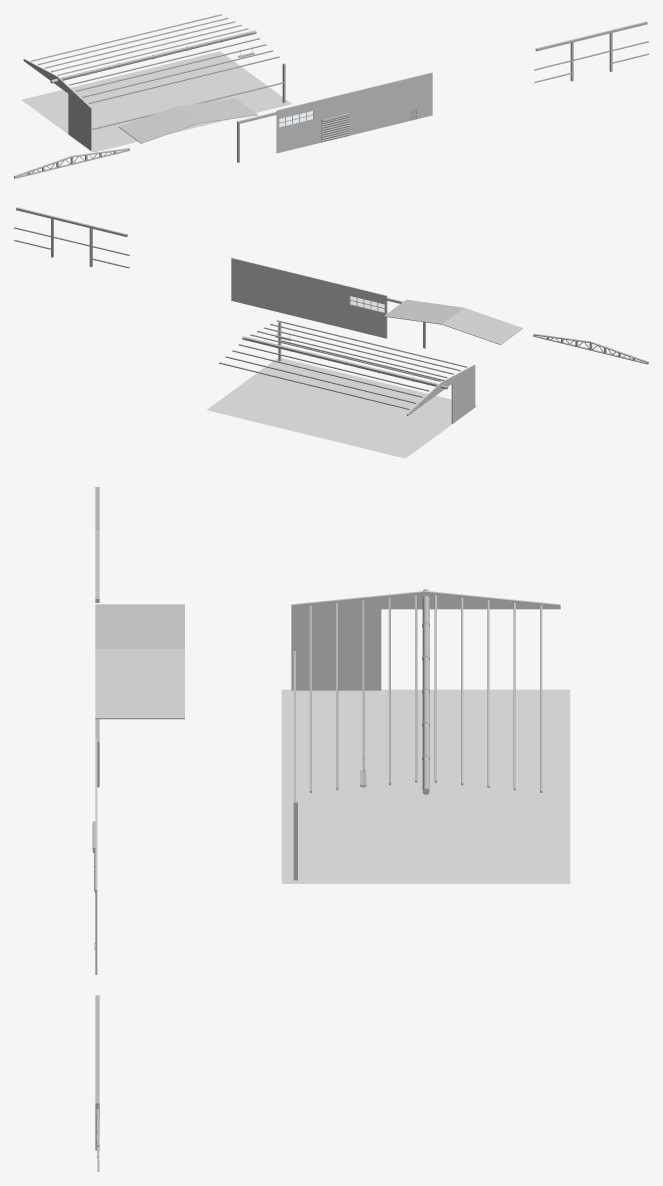
The model's file is FireBase.fbx.
The picture shows the model from 3 angles, top to bottom: view 1: azimuth 30°, elevation 25°; view 2: azimuth 150°, elevation 25°; view 3: azimuth 270°, elevation 25°; orthographic projection. The views are drawn at different scales.
Parts seen in each view (by area): view 1: GroundForNow, roofSupport, Roof, SideWallDoor, SideWall, GarageWall, SideWallNormal, BackColone, FrontBWall, Pipe, RoofMainSupport, RoofClosePart (+2 smaller); view 2: GroundForNow, roofSupport, Roof, SideWall, SideWallNormal, SideWallDoor, GarageWall, FrontBWall, BackColone, Pipe, RoofMainSupport, RoofClosePart; view 3: GroundForNow, Roof, FrontBWall, roofSupport, RoofClosePart, Pipe.
Boxes of the visible parts, left/top/right/bottom form: GroundForNow: left=21, top=51, right=291, bottom=152; roofSupport: left=31, top=14, right=279, bottom=103; Roof: left=119, top=98, right=257, bottom=143; SideWallDoor: left=393, top=72, right=432, bottom=124; SideWall: left=276, top=101, right=315, bottom=153; GarageWall: left=316, top=91, right=354, bottom=143; SideWallNormal: left=355, top=82, right=393, bottom=134; BackColone: left=534, top=21, right=648, bottom=82; FrontBWall: left=68, top=94, right=91, bottom=150; Pipe: left=50, top=30, right=256, bottom=83; RoofMainSupport: left=14, top=148, right=129, bottom=178; RoofClosePart: left=23, top=58, right=91, bottom=109; GroundForNow: left=207, top=358, right=476, bottom=458; roofSupport: left=219, top=320, right=467, bottom=409; Roof: left=384, top=299, right=522, bottom=344; SideWall: left=348, top=286, right=387, bottom=338; SideWallNormal: left=270, top=267, right=308, bottom=319; SideWallDoor: left=231, top=258, right=270, bottom=309; GarageWall: left=309, top=276, right=347, bottom=328; FrontBWall: left=451, top=367, right=475, bottom=423; BackColone: left=14, top=207, right=129, bottom=268; Pipe: left=242, top=336, right=448, bottom=389; RoofMainSupport: left=533, top=333, right=648, bottom=364; RoofClosePart: left=407, top=364, right=475, bottom=415; GroundForNow: left=281, top=689, right=570, bottom=883; Roof: left=95, top=604, right=184, bottom=719; FrontBWall: left=291, top=609, right=381, bottom=690; roofSupport: left=309, top=595, right=542, bottom=792; RoofClosePart: left=291, top=591, right=560, bottom=609; Pipe: left=422, top=589, right=429, bottom=794.
Bounding box in the file's own units: 163 × 53.23 × 12.15.
